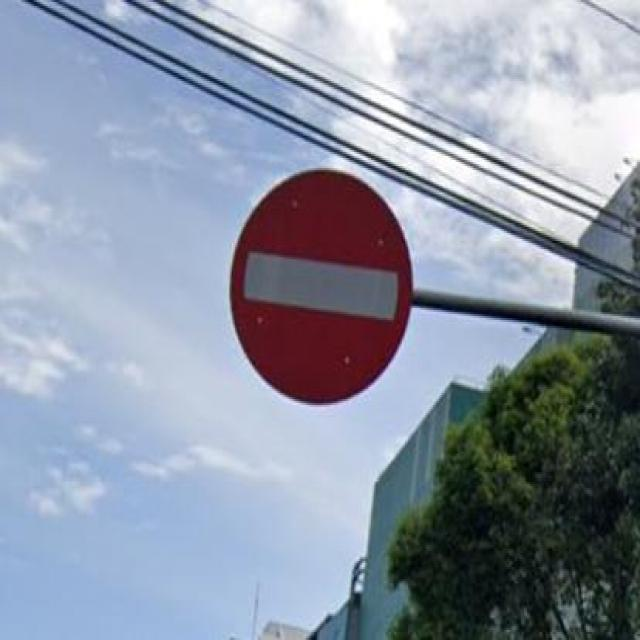traffic sign: (230, 168, 412, 405)
